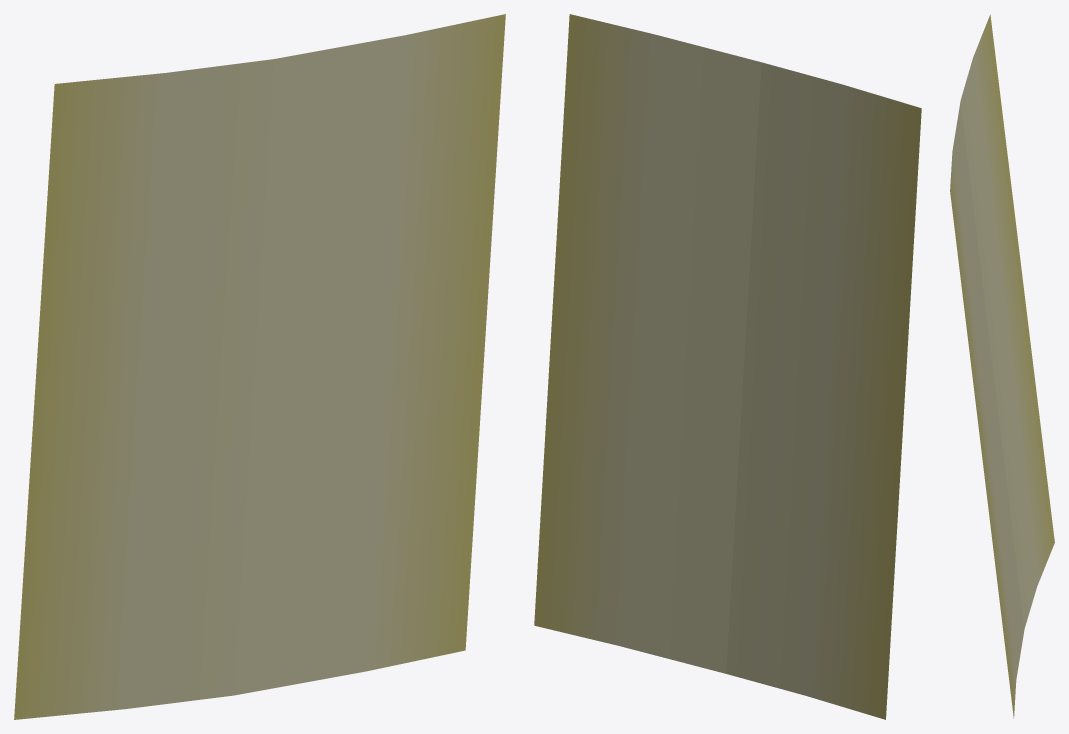
The model's file is WindowBack1_2.glb.
The picture shows the model from 3 angles, left to right: view 1: azimuth 30°, elevation 25°; view 2: azimuth 150°, elevation 25°; view 3: azimuth 270°, elevation 25°; orthographic projection. The views are drawn at different scales.
Parts seen in each view (by area): view 1: WindowBack1; view 2: WindowBack1; view 3: WindowBack1.
Part boxes in pixels (left/top/right/bottom): WindowBack1: left=14, top=14, right=505, bottom=719; WindowBack1: left=534, top=14, right=921, bottom=719; WindowBack1: left=950, top=14, right=1054, bottom=718.
Size of the model in its own units: 0.8432 by 1.29 by 0.2265.
